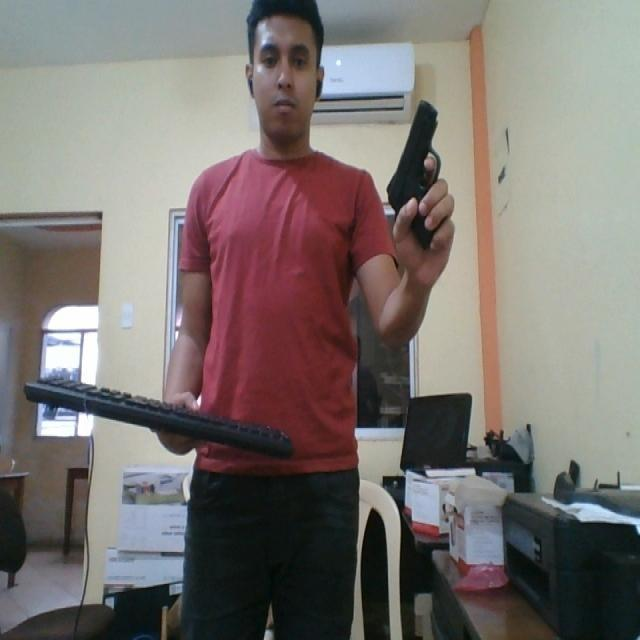weapon: (383, 98, 442, 244)
